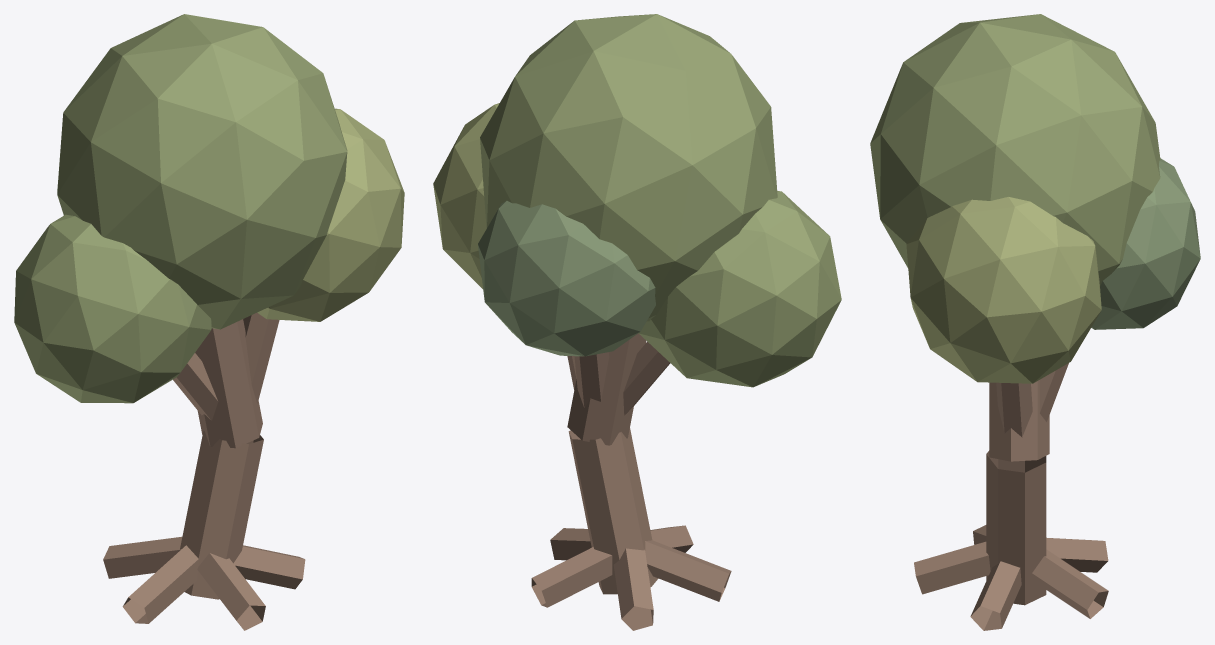
The picture shows the model from 3 angles, left to right: view 1: azimuth 30°, elevation 25°; view 2: azimuth 150°, elevation 25°; view 3: azimuth 270°, elevation 25°; orthographic projection.
Parts seen in each view (by area): view 1: T14; view 2: T14; view 3: T14.
Boxes of the visible parts, bbox=[...] form: T14: bbox=[14, 14, 404, 630]; T14: bbox=[433, 14, 841, 630]; T14: bbox=[870, 14, 1200, 630].
Bounding box in the file's own units: 2.19 × 3.16 × 1.67.
